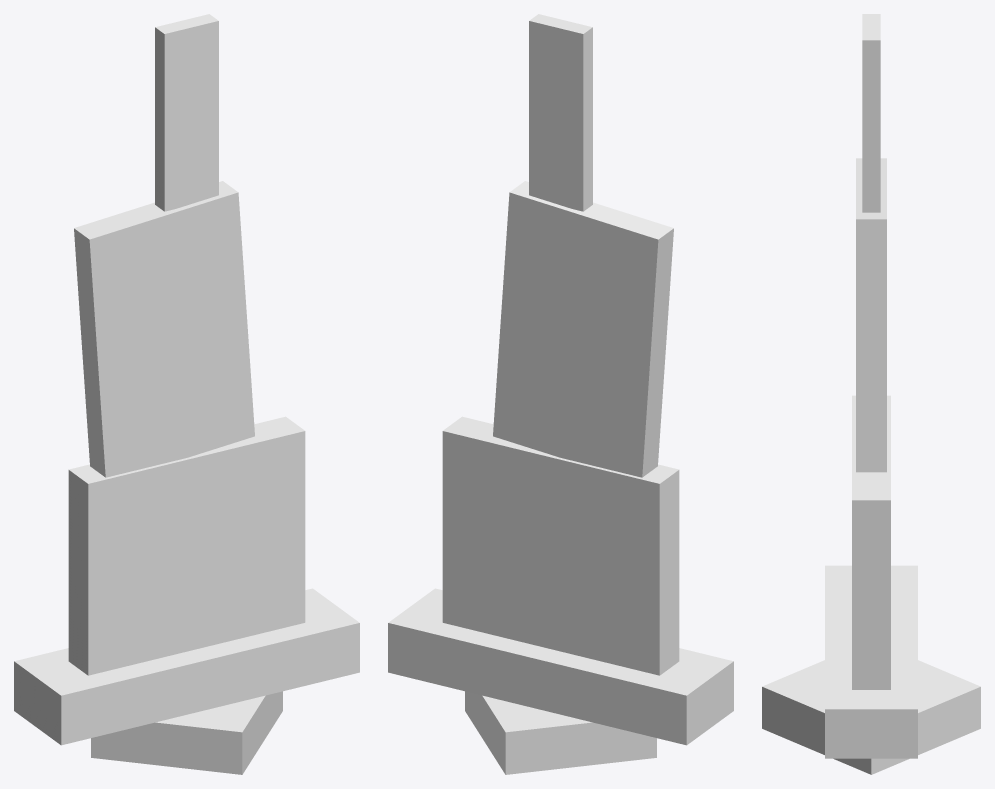
File: knife_energy.gltf
The picture shows the model from 3 angles, left to right: view 1: azimuth 30°, elevation 25°; view 2: azimuth 150°, elevation 25°; view 3: azimuth 270°, elevation 25°; orthographic projection.
Visible parts, largest first — view 1: blade1, blade2, guard, blade_tip, pommel; view 2: blade1, blade2, guard, blade_tip, pommel; view 3: guard, pommel, blade1, blade2, blade_tip.
Part boxes in pixels (<box>): blade1: <box>68,416,305,675</box>; blade2: <box>74,181,254,477</box>; guard: <box>14,588,359,745</box>; blade_tip: <box>155,14,218,211</box>; pommel: <box>91,691,282,774</box>; blade1: <box>442,416,679,675</box>; blade2: <box>493,181,673,477</box>; guard: <box>388,588,733,745</box>; blade_tip: <box>529,14,592,211</box>; pommel: <box>465,691,656,774</box>; guard: <box>825,565,917,758</box>; pommel: <box>762,660,980,774</box>; blade1: <box>852,395,890,689</box>; blade2: <box>856,158,886,472</box>; blade_tip: <box>862,14,880,212</box>.
Bounding box in the file's own units: 0.275 × 0.625 × 0.1768.
Materials: 1 (1 with a texture image).
